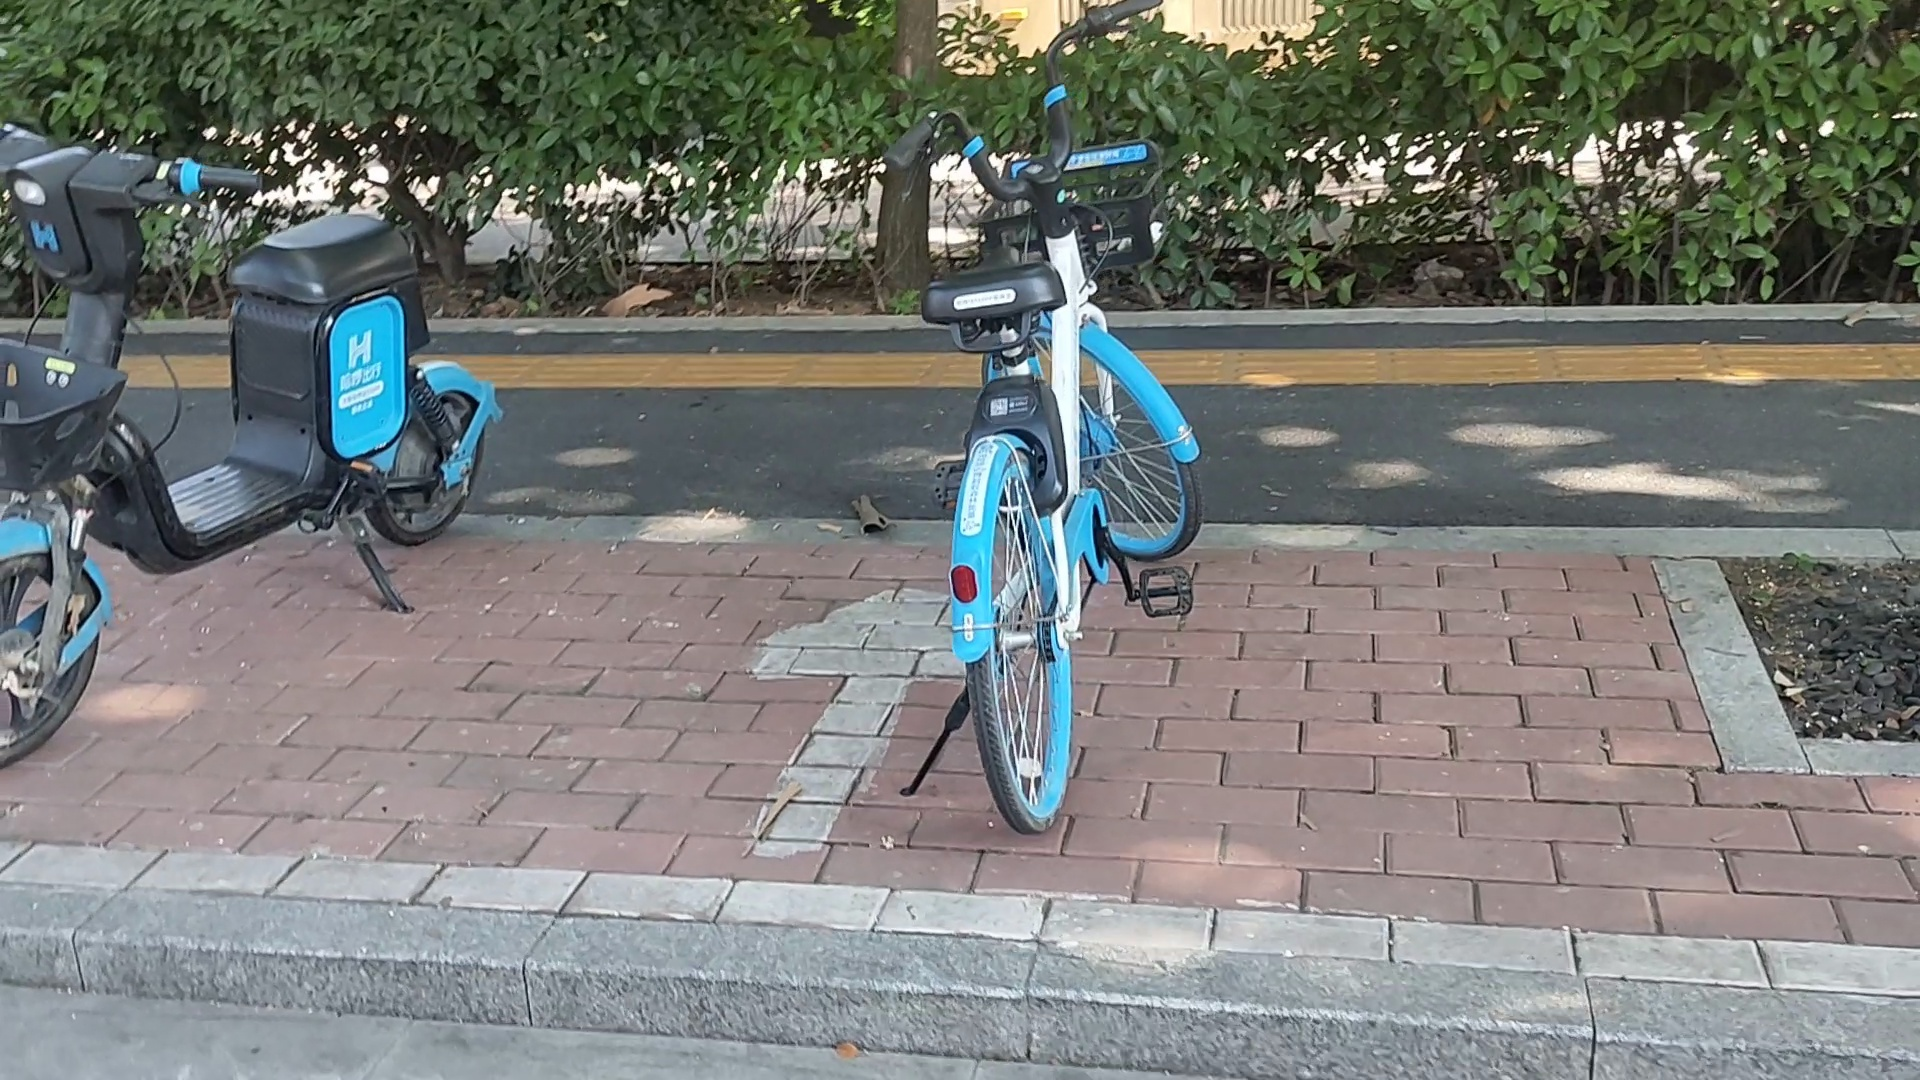non-vehicle: (3, 138, 500, 804), (901, 47, 1203, 825)
